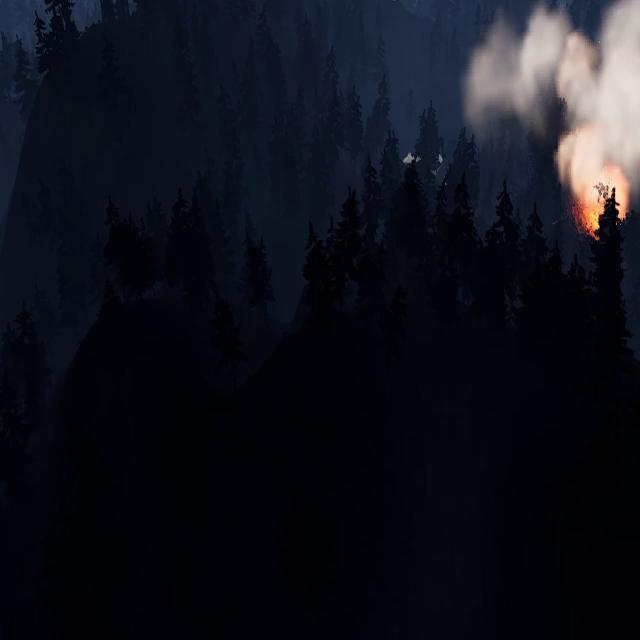fire: (578, 163, 634, 234)
smoke: (460, 0, 640, 198)
